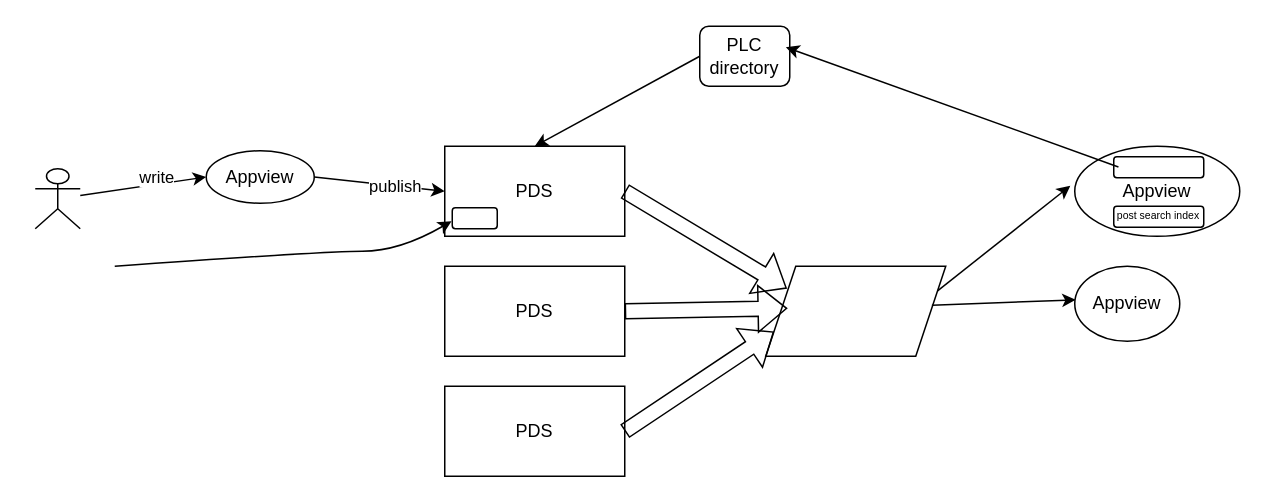
Some shapes in this 1266 by 503 pixel diagram are drawn without their labels. Here are the shapes that lost their labels. From the top down, the centre of each, then its label:
At point 1158,166: "user search index".
At point 57,198: "User Account".
At point 474,217: "DID".
At point 855,310: "Relay".
